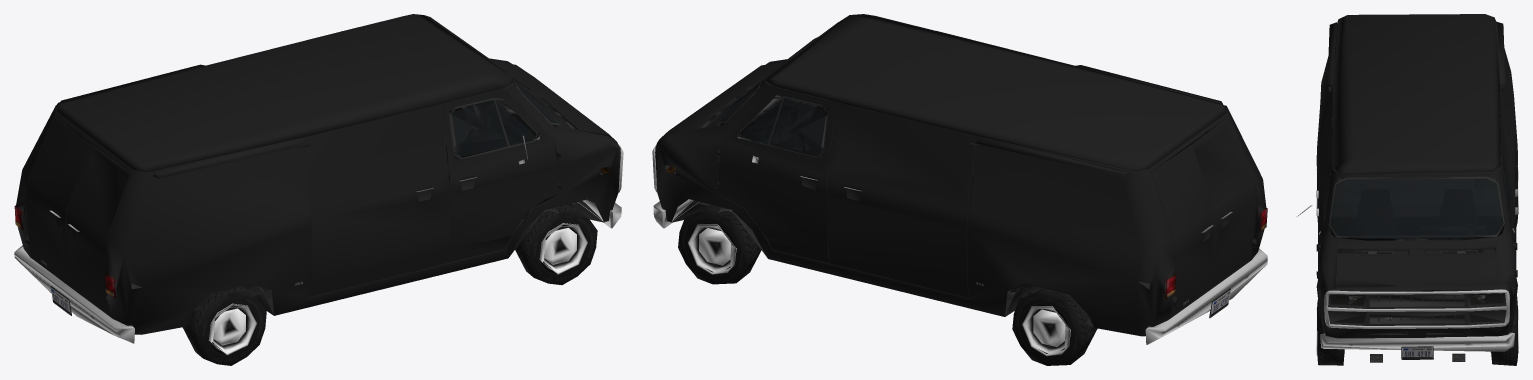
The model's file is v_shvan_lod.glb.
3 renders of one model, left to right at view 1: azimuth 30°, elevation 25°; view 2: azimuth 150°, elevation 25°; view 3: azimuth 270°, elevation 25°, orthographic. The views are drawn at different scales.
Visible parts, largest first — view 1: Shvan92_Body_Shvan92_bodymat_0, Shvan92_WheelStock_RL_RB1c_Tire_1k_0, Shvan92_WheelStock_FR_RB1c_Tire_1k_0, Shvan92_Interior_UCB_Interiors_1_0, Shvan92_Bottom_UCB_BOTTOM_0, Shvan92_Glass_Passanger_UCB_Lights_and_Glass_Transperent_0, Shvan92_Bumper_rear_UCB_BOTTOM_0, Shvan92_Hood_Shvan92_bodymat_0, Shvan92_Body_glass_UCB_Lights_and_Glass_Transperent_0; view 2: Shvan92_Body_Shvan92_bodymat_0, Shvan92_WheelStock_RL_RB1c_Tire_1k_0, Shvan92_WheelStock_FL_RB1c_Tire_1k_0, Shvan92_Interior_UCB_Interiors_1_0, Shvan92_Glass_Driver_UCB_Lights_and_Glass_Transperent_0, Shvan92_Bumper_rear_UCB_BOTTOM_0, Shvan92_Bottom_UCB_BOTTOM_0, Shvan92_Hood_Shvan92_bodymat_0, Shvan92_Body_glass_UCB_Lights_and_Glass_Transperent_0; view 3: Shvan92_Body_Shvan92_bodymat_0, Shvan92_Interior_UCB_Interiors_1_0, Shvan92_Windshield_UCB_Lights_and_Glass_Transperent_0, Shvan92_Bottom_UCB_BOTTOM_0, Shvan92_Hood_Shvan92_bodymat_0, Shvan92_Bumper_front_UCB_BOTTOM_0, Shvan92_WheelStock_FR_RB1c_Tire_1k_0, Shvan92_WheelStock_FL_RB1c_Tire_1k_0, Shvan92_Numberplate_front_Numberplates_Misk_U_0.
Boxes of the visible parts, x1=… form: Shvan92_Body_Shvan92_bodymat_0: x1=16, y1=14, x2=620, y2=334; Shvan92_WheelStock_RL_RB1c_Tire_1k_0: x1=182, y1=286, x2=266, y2=365; Shvan92_WheelStock_FR_RB1c_Tire_1k_0: x1=515, y1=203, x2=597, y2=285; Shvan92_Interior_UCB_Interiors_1_0: x1=59, y1=93, x2=557, y2=310; Shvan92_Bottom_UCB_BOTTOM_0: x1=49, y1=79, x2=623, y2=326; Shvan92_Glass_Passanger_UCB_Lights_and_Glass_Transperent_0: x1=451, y1=100, x2=507, y2=156; Shvan92_Bumper_rear_UCB_BOTTOM_0: x1=14, y1=245, x2=134, y2=343; Shvan92_Hood_Shvan92_bodymat_0: x1=492, y1=61, x2=609, y2=134; Shvan92_Body_glass_UCB_Lights_and_Glass_Transperent_0: x1=495, y1=100, x2=537, y2=145; Shvan92_Body_Shvan92_bodymat_0: x1=655, y1=14, x2=1266, y2=336; Shvan92_WheelStock_RL_RB1c_Tire_1k_0: x1=1012, y1=288, x2=1097, y2=365; Shvan92_WheelStock_FL_RB1c_Tire_1k_0: x1=678, y1=204, x2=761, y2=284; Shvan92_Interior_UCB_Interiors_1_0: x1=718, y1=93, x2=1223, y2=298; Shvan92_Glass_Driver_UCB_Lights_and_Glass_Transperent_0: x1=769, y1=98, x2=826, y2=155; Shvan92_Bumper_rear_UCB_BOTTOM_0: x1=1145, y1=248, x2=1267, y2=344; Shvan92_Bottom_UCB_BOTTOM_0: x1=652, y1=80, x2=1232, y2=327; Shvan92_Hood_Shvan92_bodymat_0: x1=660, y1=62, x2=782, y2=138; Shvan92_Body_glass_UCB_Lights_and_Glass_Transperent_0: x1=739, y1=98, x2=782, y2=144; Shvan92_Body_Shvan92_bodymat_0: x1=1316, y1=14, x2=1517, y2=338; Shvan92_Interior_UCB_Interiors_1_0: x1=1324, y1=97, x2=1509, y2=291; Shvan92_Windshield_UCB_Lights_and_Glass_Transperent_0: x1=1330, y1=178, x2=1503, y2=238; Shvan92_Bottom_UCB_BOTTOM_0: x1=1297, y1=152, x2=1517, y2=362; Shvan92_Hood_Shvan92_bodymat_0: x1=1336, y1=253, x2=1498, y2=291; Shvan92_Bumper_front_UCB_BOTTOM_0: x1=1320, y1=332, x2=1514, y2=359; Shvan92_WheelStock_FR_RB1c_Tire_1k_0: x1=1316, y1=300, x2=1344, y2=365; Shvan92_WheelStock_FL_RB1c_Tire_1k_0: x1=1490, y1=296, x2=1518, y2=365; Shvan92_Numberplate_front_Numberplates_Misk_U_0: x1=1402, y1=347, x2=1432, y2=359.
Bounding box in the file's own units: 4.9 × 1.91 × 2.12.
Materials: 8 (7 with a texture image).
